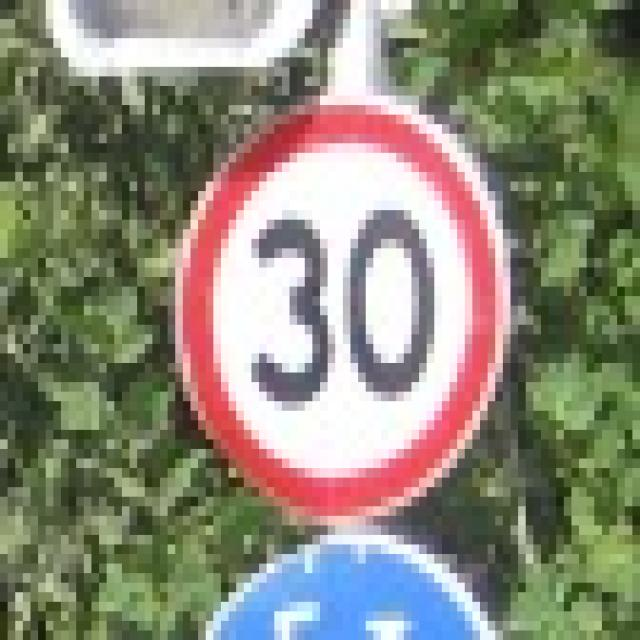Speed Limit -30-: (246, 202, 440, 416)
